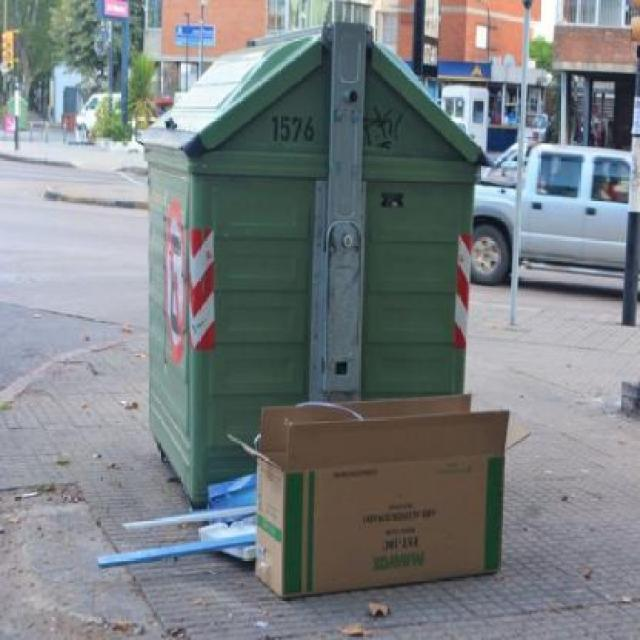garbage: (232, 356, 576, 639), (114, 409, 312, 639)
